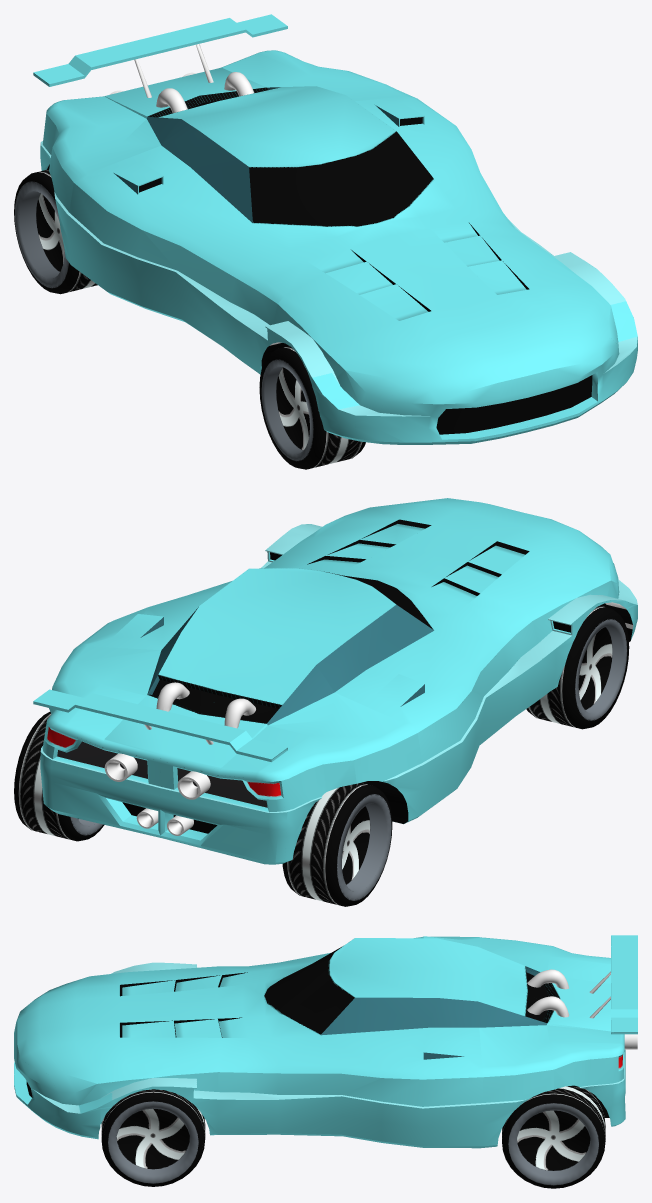
File: CarModel_Booster.fbx
3 views of the same model, one above another, from view 1: azimuth 30°, elevation 25°; view 2: azimuth 150°, elevation 25°; view 3: azimuth 270°, elevation 25° (orthographic). The views are drawn at different scales.
Parts seen in each view (by area): view 1: RounderCar, Tire.007, Tire.005; view 2: RounderCar, Tire.005, Tire.007, Tire.004; view 3: RounderCar, Tire.004, Tire.006.
Part boxes in pixels (x1,y1,x2,y2): RounderCar: (33, 14, 637, 444); Tire.007: (259, 346, 365, 469); Tire.005: (14, 169, 97, 294); RounderCar: (33, 498, 637, 864); Tire.005: (282, 783, 392, 906); Tire.007: (526, 605, 629, 729); Tire.004: (14, 712, 104, 841); RounderCar: (14, 935, 637, 1148); Tire.004: (502, 1085, 605, 1188); Tire.006: (101, 1089, 205, 1186).
Size of the model in its own units: 167 by 84.4 by 301.
Materials: 3 (2 with a texture image).
